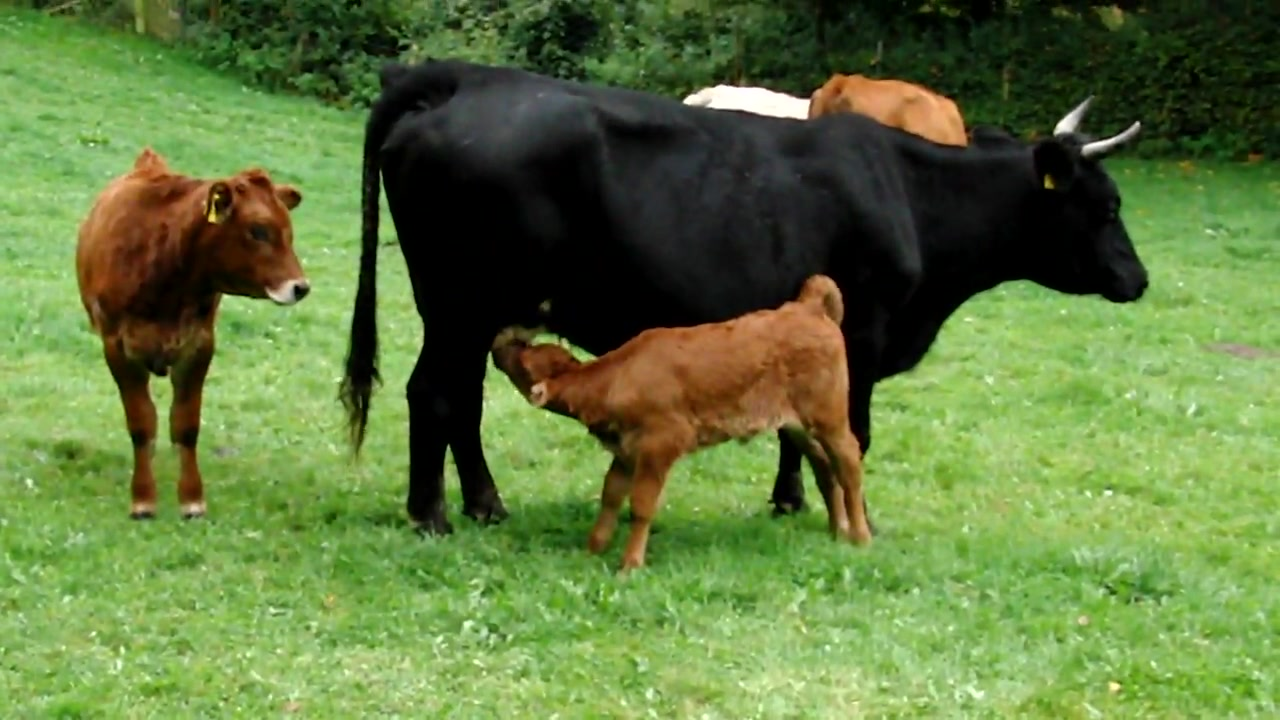cow: (78, 152, 313, 519)
